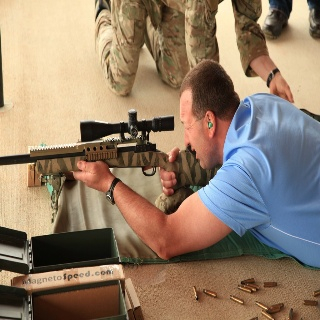rifle: (1, 109, 223, 193)
